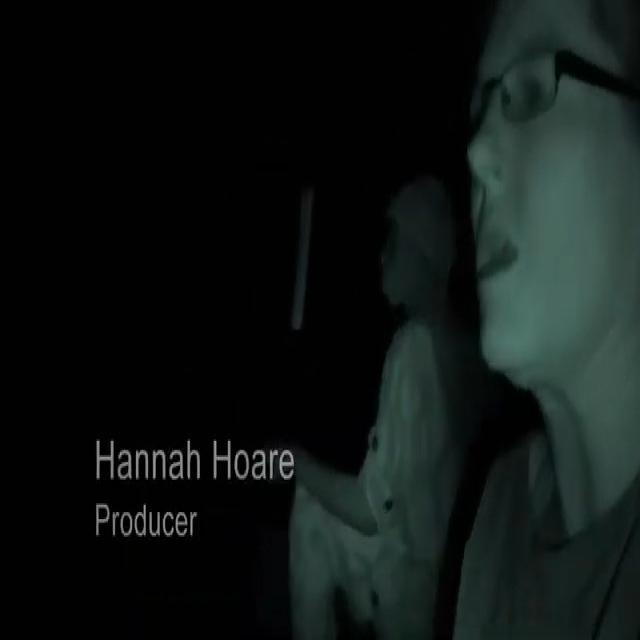human: (443, 0, 640, 622), (254, 95, 471, 640)
